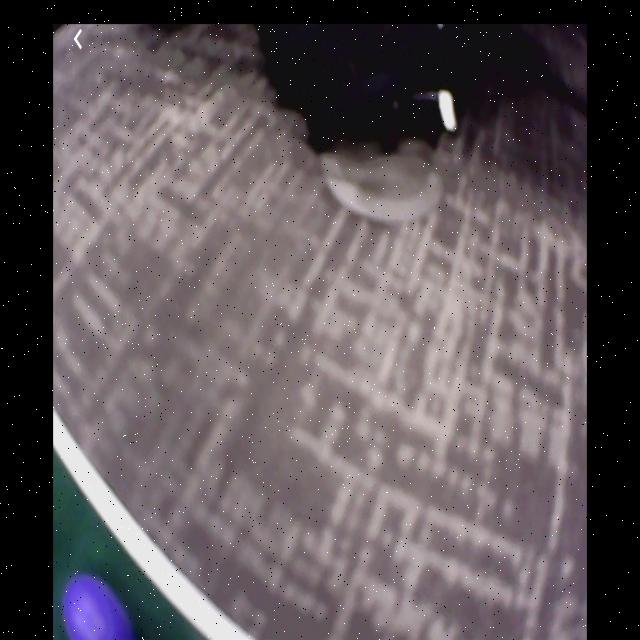ball: (61, 575, 130, 640)
